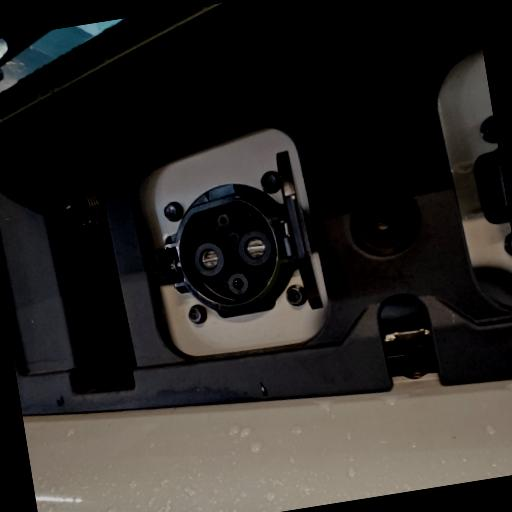DC_charging_port: (164, 186, 290, 324)
DC_hole: (234, 225, 275, 268), (190, 238, 227, 279)
PE: (224, 269, 251, 297)
